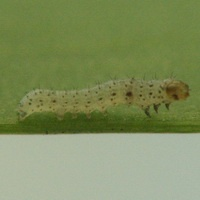insect: (18, 79, 188, 119)
